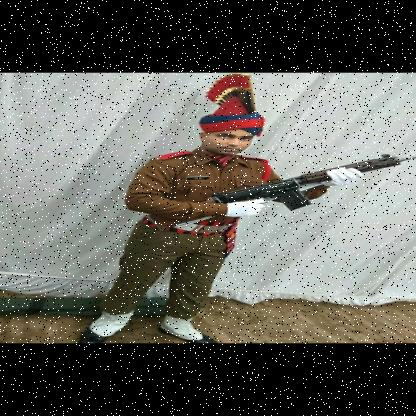rifle: (142, 153, 416, 233)
